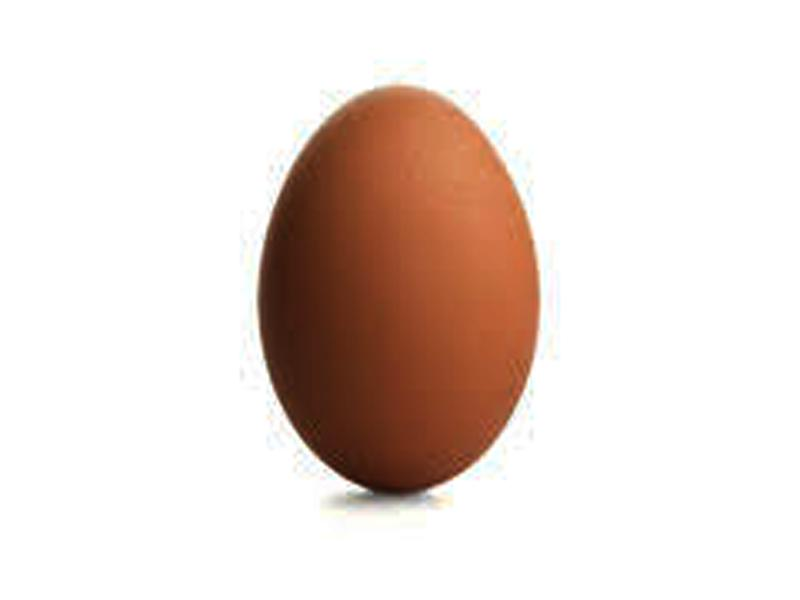Eggs: (259, 90, 536, 495)
